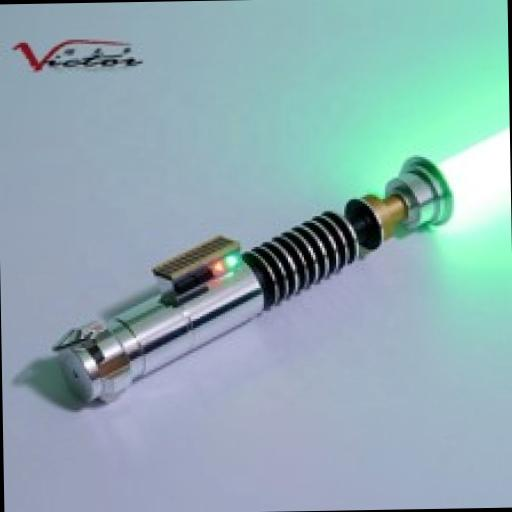lightsaber: (46, 123, 512, 417)
